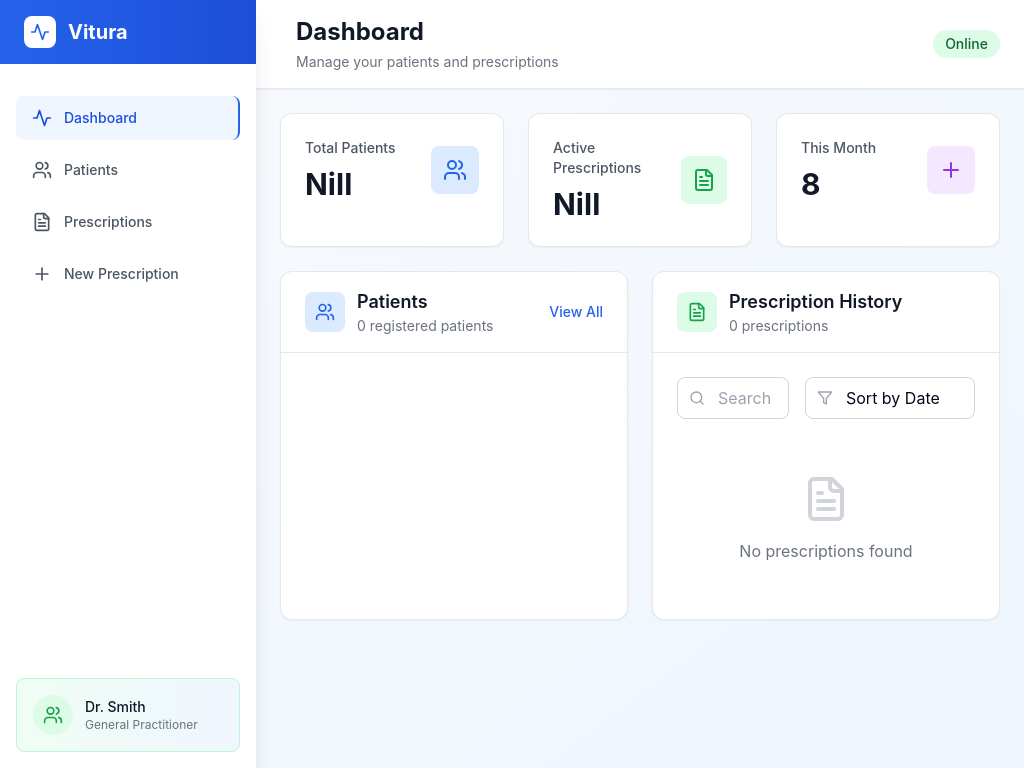
it: App Component › switches to prescriptions view when prescriptions nav is clicked
Click the button "Prescriptions" at (128, 222), box [16,200,240,244]
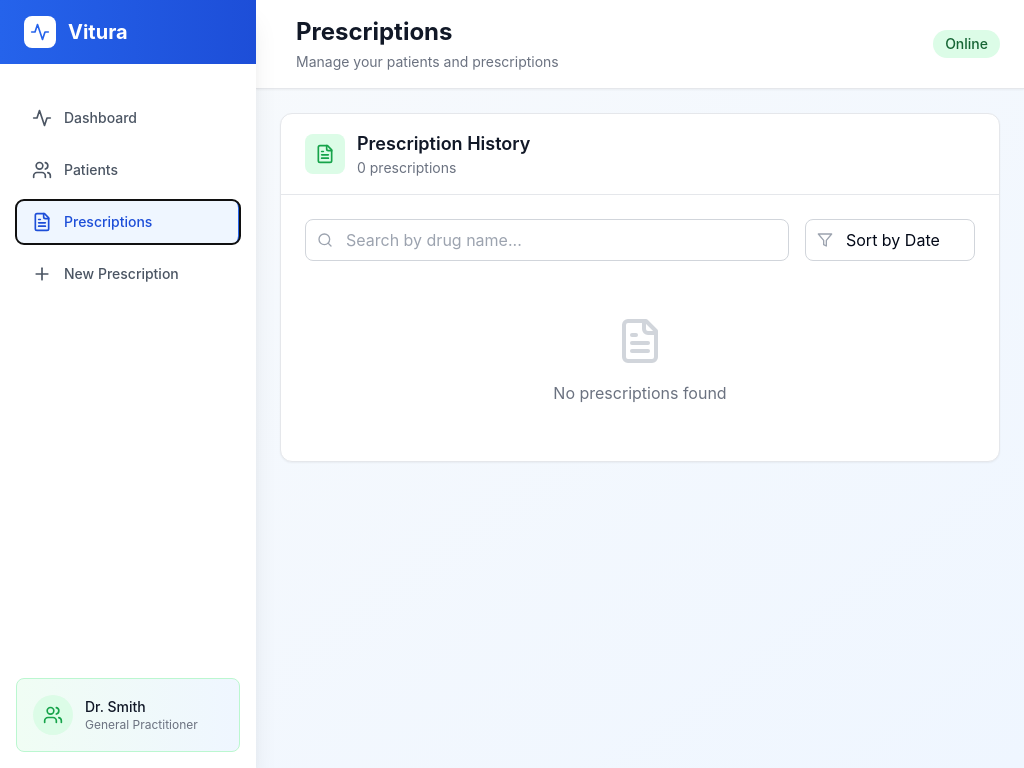
Now the heading "Prescriptions" is shown, box [296,17,452,46]
